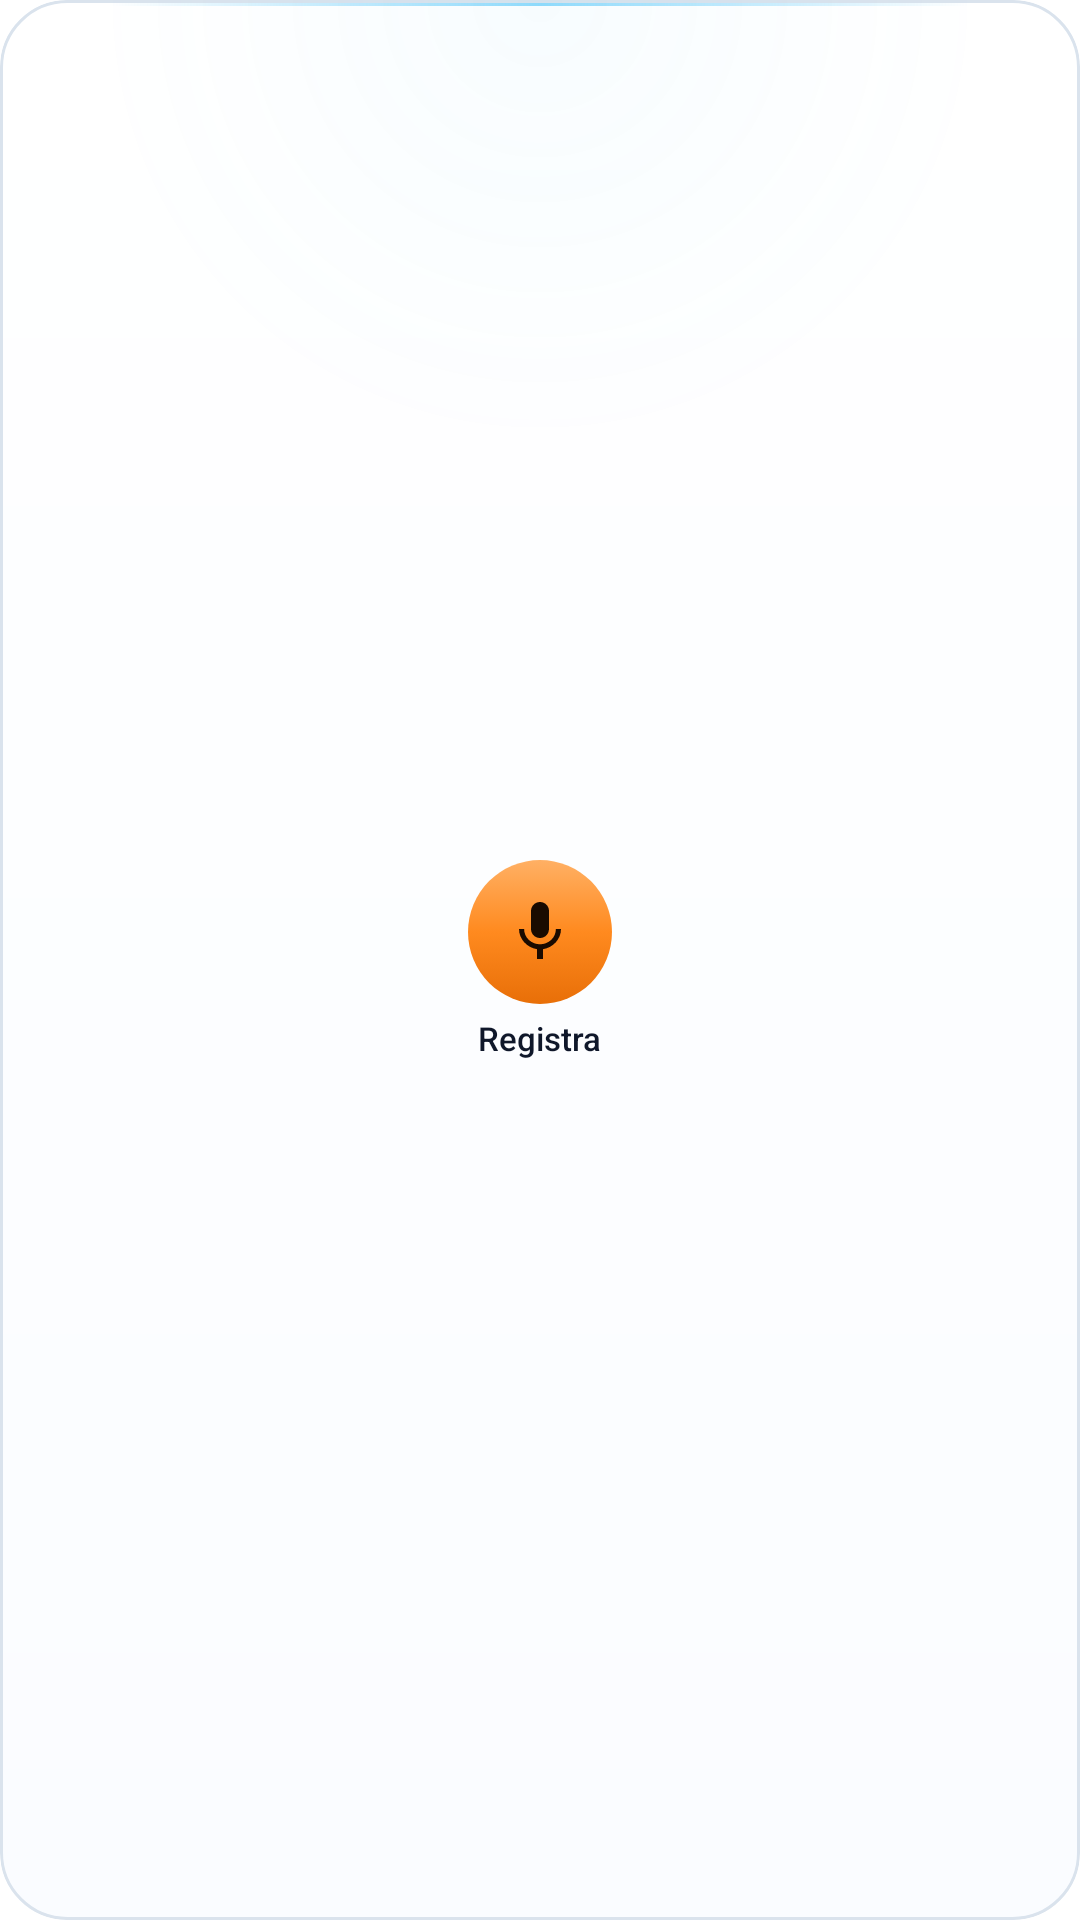

Named icons in this screenshot (1080px×1920px) and their centers, (x,y):
widget mic: (540,932)
